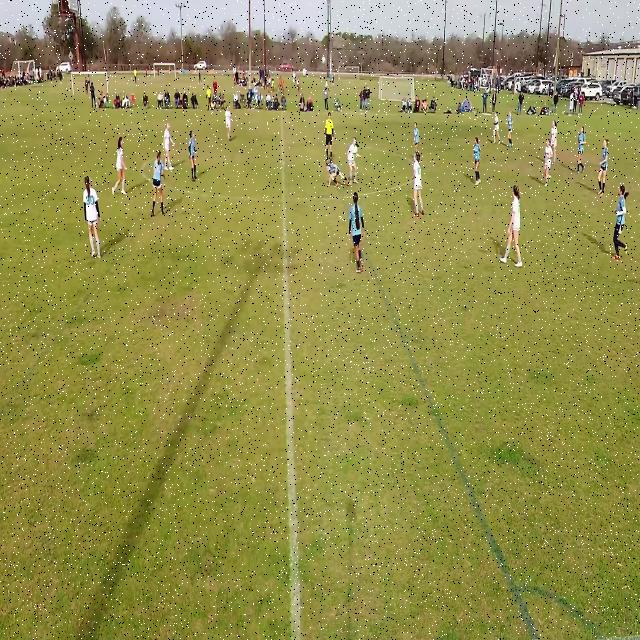Referee: (326, 116, 335, 160), (205, 84, 212, 112)
TEAM 1: (614, 184, 632, 260), (349, 198, 366, 272), (150, 151, 165, 219), (596, 140, 608, 198), (188, 132, 200, 186), (322, 161, 344, 190), (575, 125, 586, 175), (472, 138, 482, 186), (507, 114, 515, 151)
TEAM 2: (83, 176, 102, 259), (505, 186, 524, 268), (412, 152, 426, 216), (112, 139, 126, 197), (346, 138, 361, 188), (162, 123, 175, 173), (542, 140, 553, 188), (492, 112, 502, 149), (552, 120, 559, 165), (224, 106, 232, 141), (414, 122, 422, 154)
